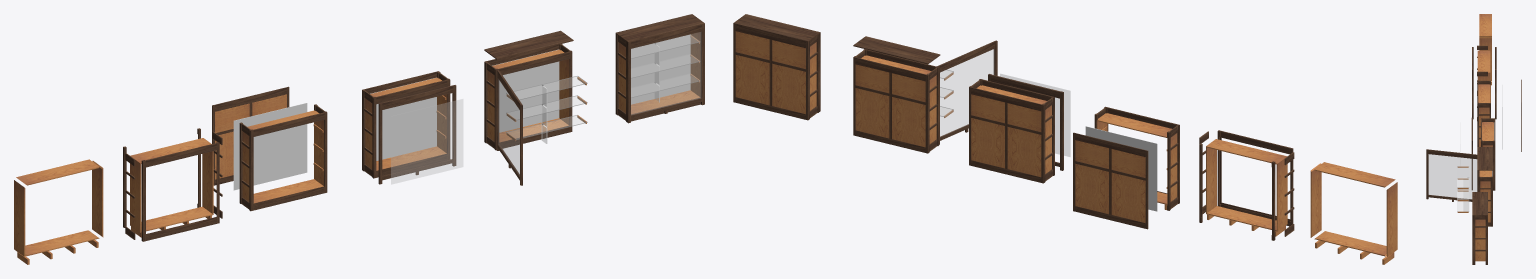
File: john2-build.glb
3 renders of one model, left to right at view 1: azimuth 30°, elevation 25°; view 2: azimuth 150°, elevation 25°; view 3: azimuth 270°, elevation 25°, orthographic. The views are drawn at different scales.
Parts seen in each view (by area): view 1: glass.door.001, glass.door, glass.mirror.back.001, glass.mirror.back, glass.mirror.back.003, glass.mirror.back.002, glass.door.002, top.004, top.003, box.top.001, box.left.001, box.bottom.001 (+42 smaller); view 2: glass.door.002, back.panel.bottom.right, back.panel.bottom.left.001, back.panel.bottom.left.002, back.panel.bottom.right.003, back.panel.bottom.right.002, back.panel.bottom.left, back.panel.bottom.right.001, back.panel.bottom.left.003, glass.mirror.back.001, top.004, top.003 (+36 smaller); view 3: glass.door.002, box.right, top.003, top.004, box.top.002, box.top.001, glass.box.shelf.003, door.frame.top.005, box.top.003, box.top.004, box.right.005, glass.box.support.001 (+18 smaller).
Boxes of the visible parts, bbox=[...] form: glass.door.001: bbox=[391, 99, 462, 184]; glass.door: bbox=[631, 32, 701, 114]; glass.mirror.back.001: bbox=[233, 103, 307, 190]; glass.mirror.back: bbox=[631, 34, 690, 104]; glass.mirror.back.003: bbox=[492, 49, 559, 132]; glass.mirror.back.002: bbox=[370, 77, 436, 160]; glass.door.002: bbox=[498, 79, 519, 175]; top.004: bbox=[484, 30, 573, 59]; top.003: bbox=[615, 14, 704, 42]; box.top.001: bbox=[16, 159, 99, 185]; box.left.001: bbox=[14, 180, 25, 256]; box.bottom.001: bbox=[25, 230, 99, 256]; glass.door.002: bbox=[940, 49, 994, 136]; back.panel.bottom.right: bbox=[735, 55, 769, 105]; back.panel.bottom.left.001: bbox=[1111, 172, 1145, 222]; back.panel.bottom.left.002: bbox=[1007, 127, 1041, 176]; back.panel.bottom.right.003: bbox=[855, 88, 889, 138]; back.panel.bottom.right.002: bbox=[971, 118, 1004, 168]; back.panel.bottom.left: bbox=[772, 63, 805, 113]; back.panel.bottom.right.001: bbox=[1075, 163, 1108, 213]; back.panel.bottom.left.003: bbox=[892, 97, 925, 147]; glass.mirror.back.001: bbox=[1085, 126, 1157, 211]; top.004: bbox=[853, 36, 940, 64]; top.003: bbox=[733, 14, 820, 41]; glass.door.002: bbox=[1428, 154, 1476, 199]; box.right: bbox=[1475, 219, 1485, 261]; top.003: bbox=[1472, 192, 1487, 215]; top.004: bbox=[1477, 147, 1492, 170]; box.top.002: bbox=[1477, 50, 1490, 72]; box.top.001: bbox=[1479, 14, 1491, 36]; glass.box.shelf.003: bbox=[1457, 166, 1469, 187]; door.frame.top.005: bbox=[1428, 149, 1477, 159]; box.top.003: bbox=[1478, 84, 1490, 102]; box.top.004: bbox=[1482, 122, 1493, 140]; box.right.005: bbox=[1480, 181, 1490, 222]; glass.box.support.001: bbox=[1463, 177, 1468, 211].
Bounding box in the file's own units: 13.41 × 1.77 × 2.67.
Materials: 6 (2 with a texture image).
